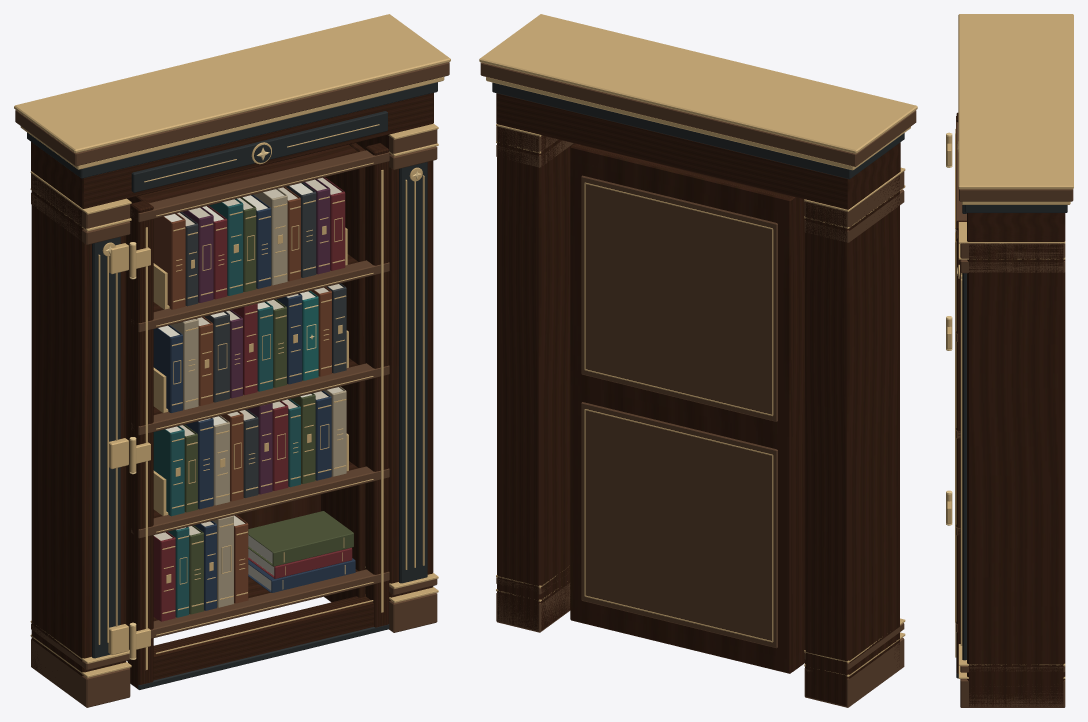
Rendered from bookcase.glb.
The picture shows the model from 3 angles, left to right: view 1: azimuth 30°, elevation 25°; view 2: azimuth 150°, elevation 25°; view 3: azimuth 270°, elevation 25°; orthographic projection. The views are drawn at different scales.
Parts seen in each view (by area): view 1: Bookcase_DoorLeaf, Frame_Fixed, HingeHardware_Fixed, PullBook, HingeLinks_Moving; view 2: Frame_Fixed, Bookcase_DoorLeaf; view 3: Frame_Fixed, Bookcase_DoorLeaf, HingeHardware_Fixed, HingeLinks_Moving.
Boxes of the visible parts, x1,y1,x2,y2 form: Bookcase_DoorLeaf: (126,143,389,689); Frame_Fixed: (14,14,450,707); HingeHardware_Fixed: (108,242,136,659); PullBook: (300,291,318,380); HingeLinks_Moving: (136,247,150,649); Frame_Fixed: (479,14,917,707); Bookcase_DoorLeaf: (570,143,804,673); Frame_Fixed: (957,14,1073,707); Bookcase_DoorLeaf: (955,112,966,678); HingeHardware_Fixed: (946,132,952,525); HingeLinks_Moving: (947,143,951,523).
Bounding box in the file's own units: 1.95 × 2.78 × 0.6111.
Materials: 16 (1 with a texture image).
